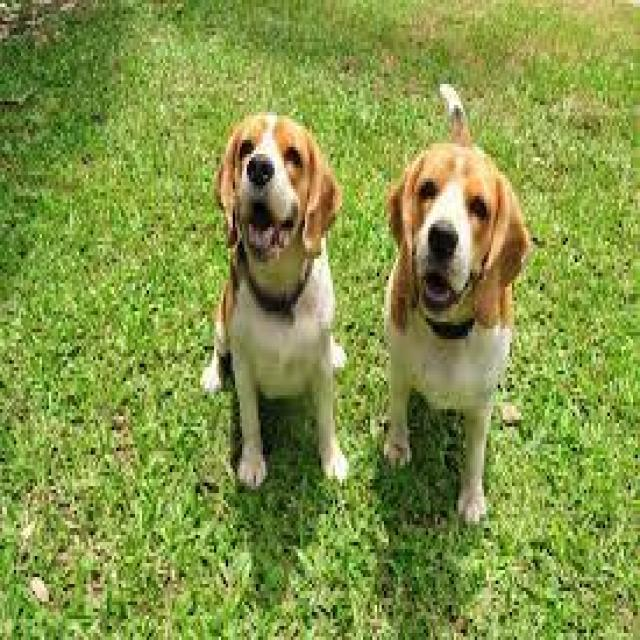Dog: (368, 81, 533, 531), (198, 97, 349, 503)
